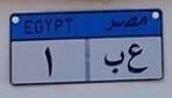1: (43, 44, 57, 78)
ain: (126, 41, 149, 79)
baa: (104, 48, 125, 77)
